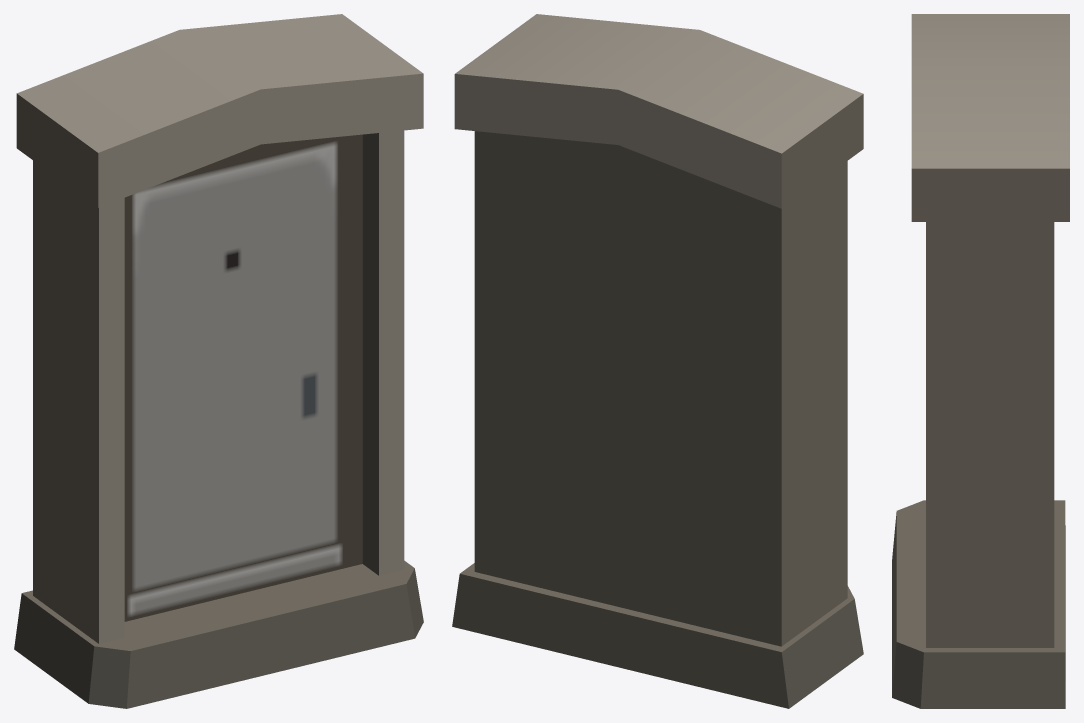
The model's file is Door_A02.fbx.
The picture shows the model from 3 angles, left to right: view 1: azimuth 30°, elevation 25°; view 2: azimuth 150°, elevation 25°; view 3: azimuth 270°, elevation 25°; orthographic projection. The views are drawn at different scales.
Parts seen in each view (by area): view 1: Door_A02; view 2: Door_A02; view 3: Door_A02.
Boxes of the visible parts, bbox=[...] form: Door_A02: bbox=[14, 14, 423, 708]; Door_A02: bbox=[452, 14, 863, 708]; Door_A02: bbox=[892, 14, 1069, 708].
Bounding box in the file's own units: 220 × 362 × 104.
